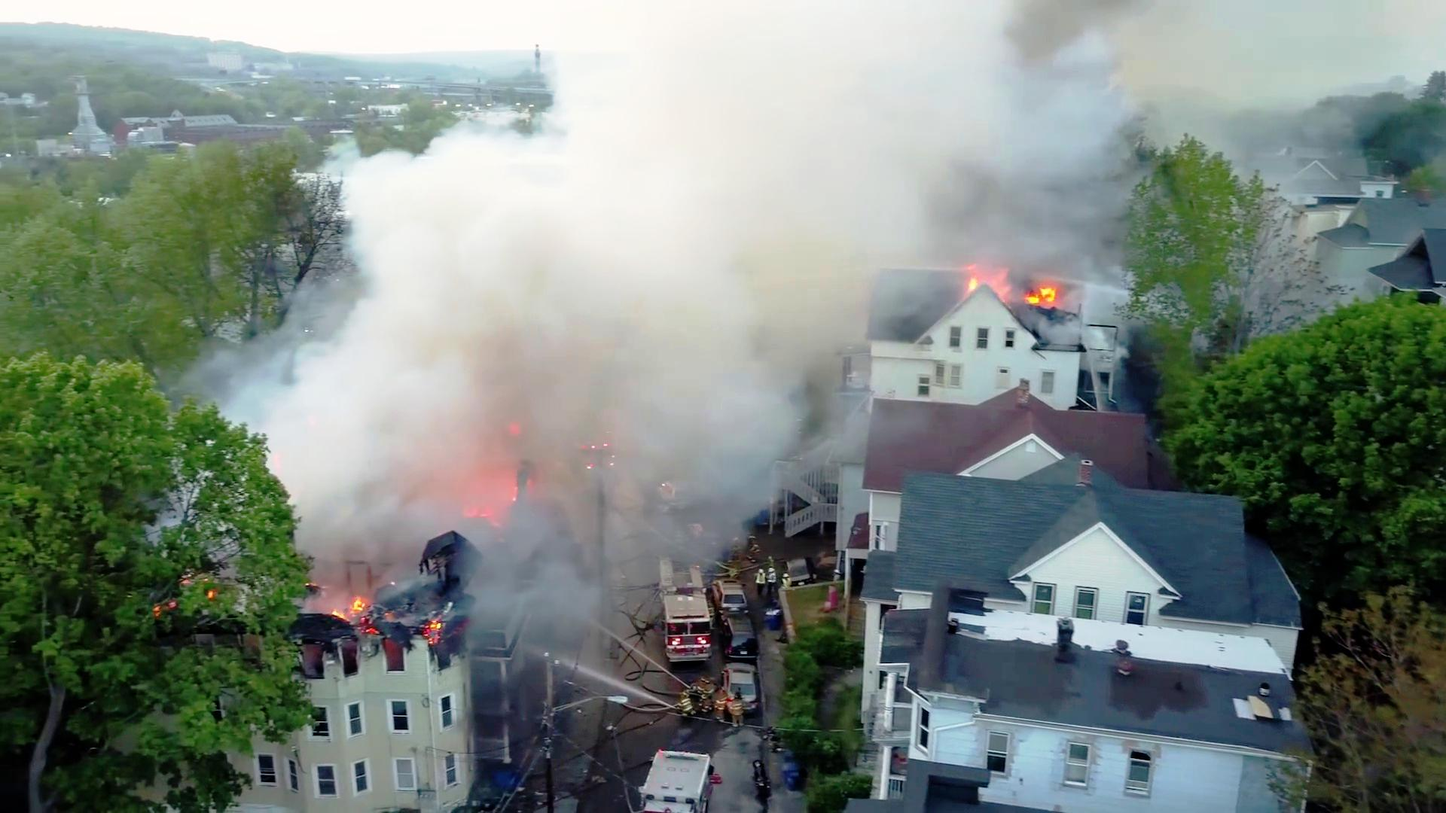smoke: (389, 255, 736, 500)
